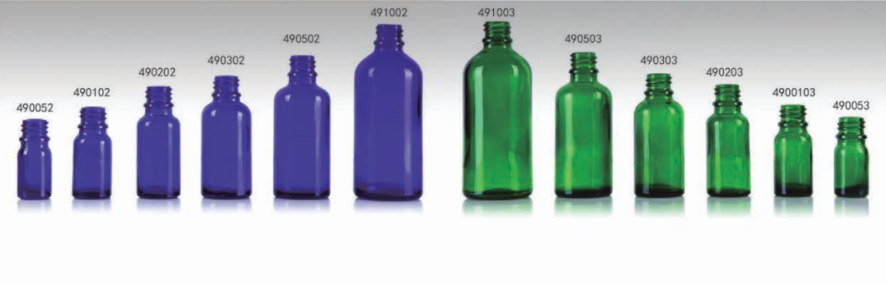glass_bottle: (348, 21, 432, 206), (458, 19, 540, 202), (547, 50, 620, 201), (268, 52, 336, 212), (628, 69, 692, 208), (196, 68, 257, 207), (125, 80, 189, 209), (699, 81, 757, 205), (66, 99, 119, 209), (769, 101, 819, 203), (12, 112, 62, 209), (826, 112, 877, 206)
